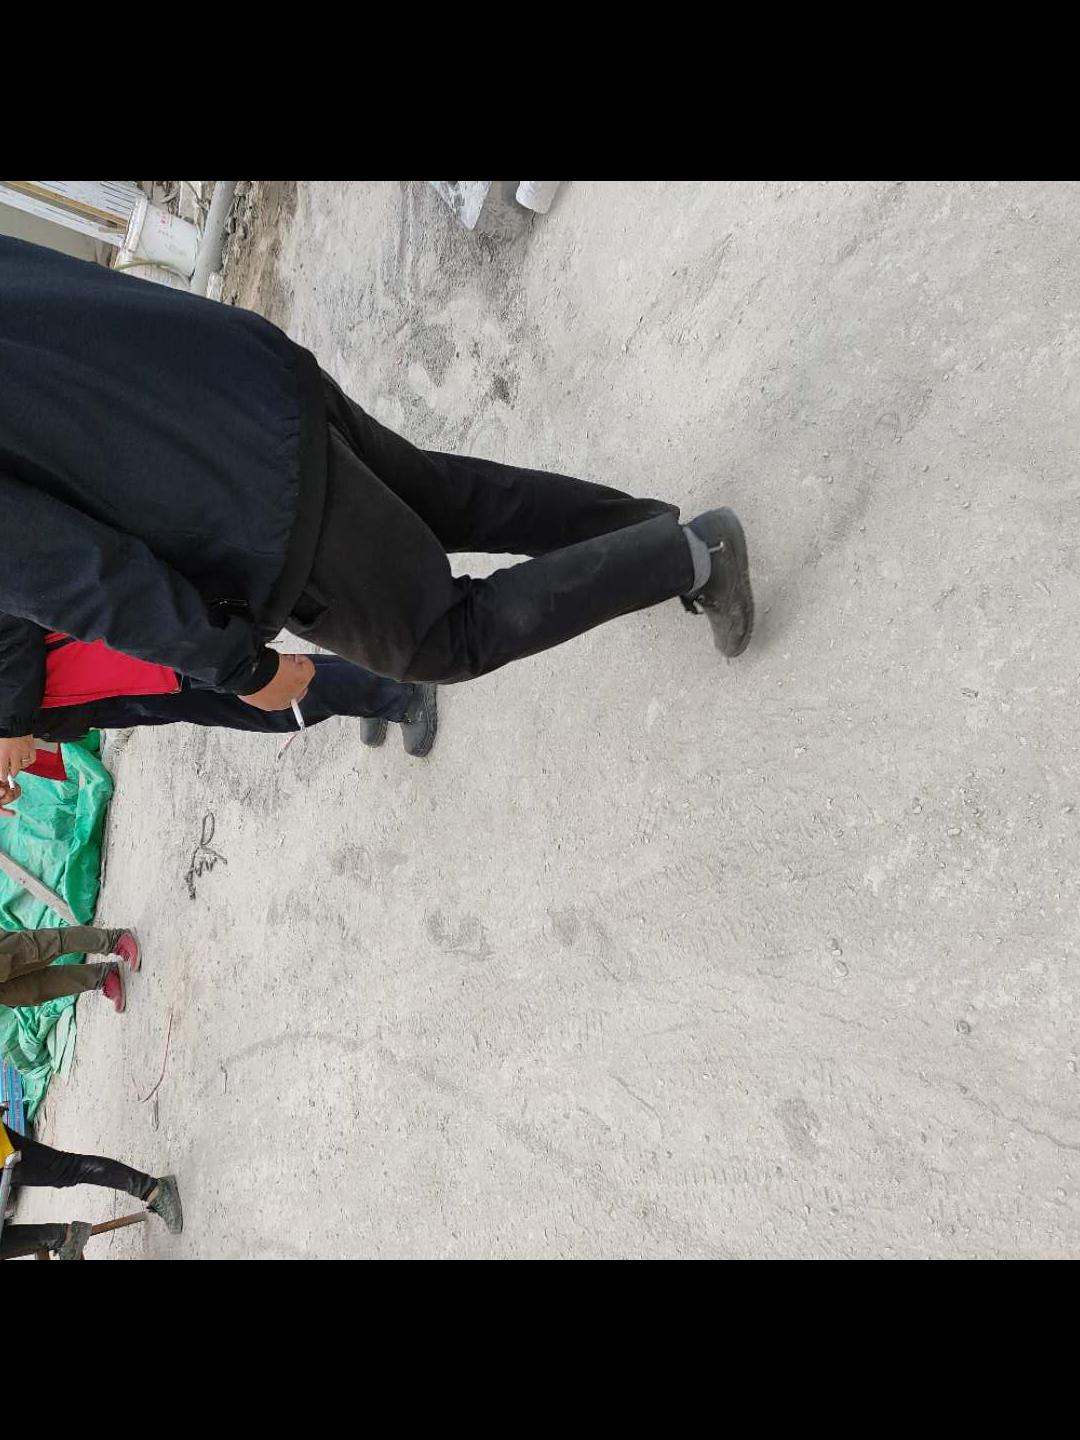Cigarette: (288, 692, 305, 728)
